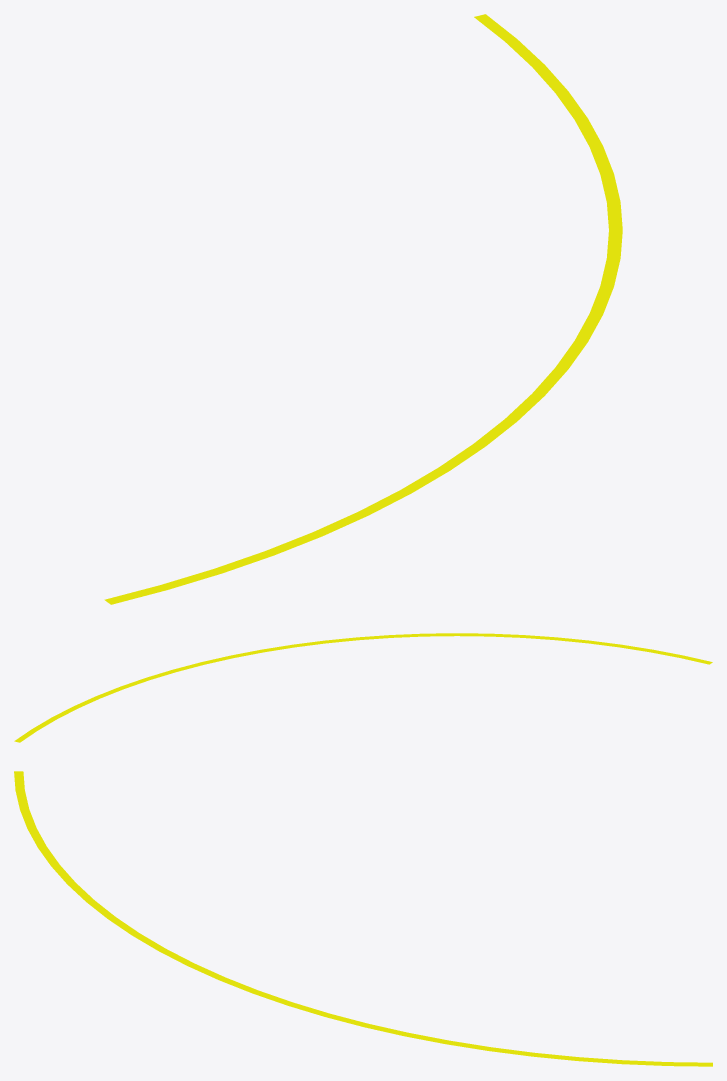
The model's file is decal-curve-4laneshort-stripe.glb.
The picture shows the model from 3 angles, top to bottom: view 1: azimuth 30°, elevation 25°; view 2: azimuth 150°, elevation 25°; view 3: azimuth 270°, elevation 25°; orthographic projection. The views are drawn at different scales.
Parts seen in each view (by area): view 1: Decal_Curve_4LaneShort_Stripe; view 2: Decal_Curve_4LaneShort_Stripe; view 3: Decal_Curve_4LaneShort_Stripe.
Part boxes in pixels (x1,y1,x2,y2): Decal_Curve_4LaneShort_Stripe: (104, 14, 622, 604); Decal_Curve_4LaneShort_Stripe: (14, 633, 712, 742); Decal_Curve_4LaneShort_Stripe: (14, 771, 712, 1066).
Bounding box in the file's own units: 14.8 × 0 × 14.8.
Materials: 1 (1 with a texture image).
